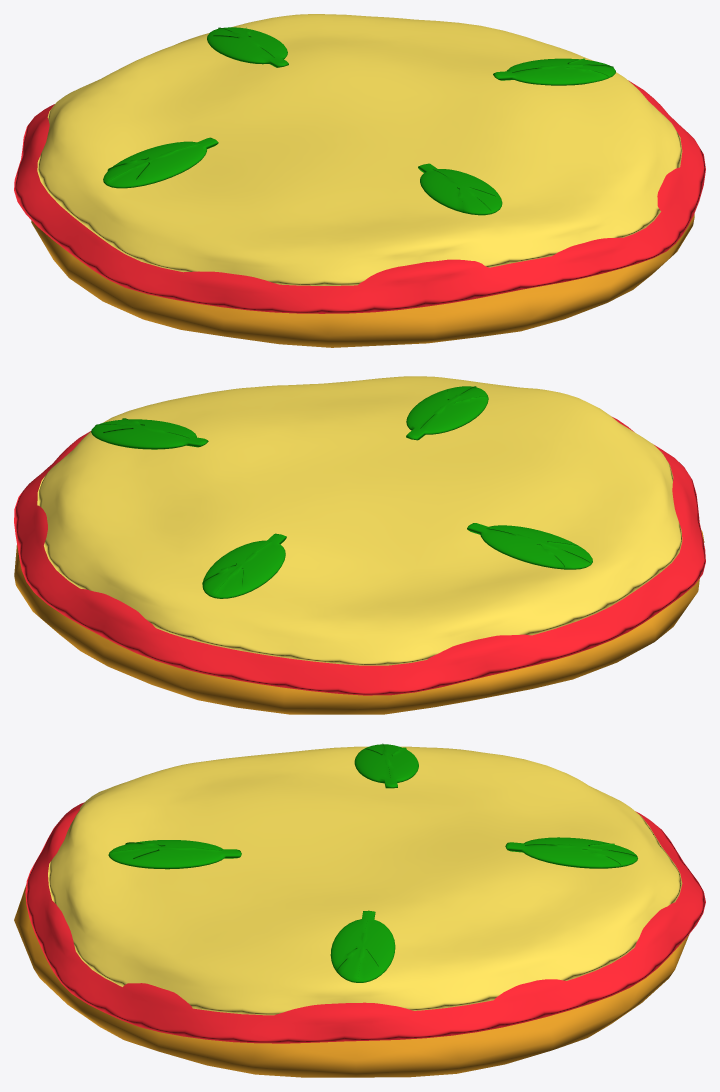
File: FullPizza.fbx
The picture shows the model from 3 angles, top to bottom: view 1: azimuth 30°, elevation 25°; view 2: azimuth 150°, elevation 25°; view 3: azimuth 270°, elevation 25°; orthographic projection. The views are drawn at different scales.
Parts seen in each view (by area): view 1: Cheese.003, Cheese.002, Base.002, Sphere.004, Sphere.002, Sphere.003, Sphere.001; view 2: Cheese.003, Cheese.002, Base.002, Sphere.001, Sphere.004, Sphere.002, Sphere.003; view 3: Cheese.003, Cheese.002, Base.002, Sphere.003, Sphere.002, Sphere.001, Sphere.004.
Boxes of the visible parts, <box> form: Cheese.003: <box>37,14,682,285</box>; Cheese.002: <box>14,80,705,313</box>; Base.002: <box>31,214,694,347</box>; Sphere.004: <box>103,137,218,188</box>; Sphere.002: <box>418,163,502,215</box>; Sphere.003: <box>493,58,615,85</box>; Sphere.001: <box>207,27,288,67</box>; Cheese.003: <box>37,376,682,665</box>; Cheese.002: <box>14,416,705,695</box>; Base.002: <box>14,530,704,714</box>; Sphere.001: <box>202,533,286,598</box>; Sphere.004: <box>467,523,592,569</box>; Sphere.002: <box>406,386,488,440</box>; Sphere.003: <box>91,418,208,449</box>; Cheese.003: <box>48,746,682,1015</box>; Cheese.002: <box>25,802,705,1043</box>; Base.002: <box>14,885,689,1077</box>; Sphere.003: <box>330,910,395,982</box>; Sphere.002: <box>108,840,241,869</box>; Sphere.001: <box>505,837,637,868</box>; Sphere.004: <box>354,743,418,788</box>.
Bounding box in the file's own units: 185 × 43.47 × 189.
